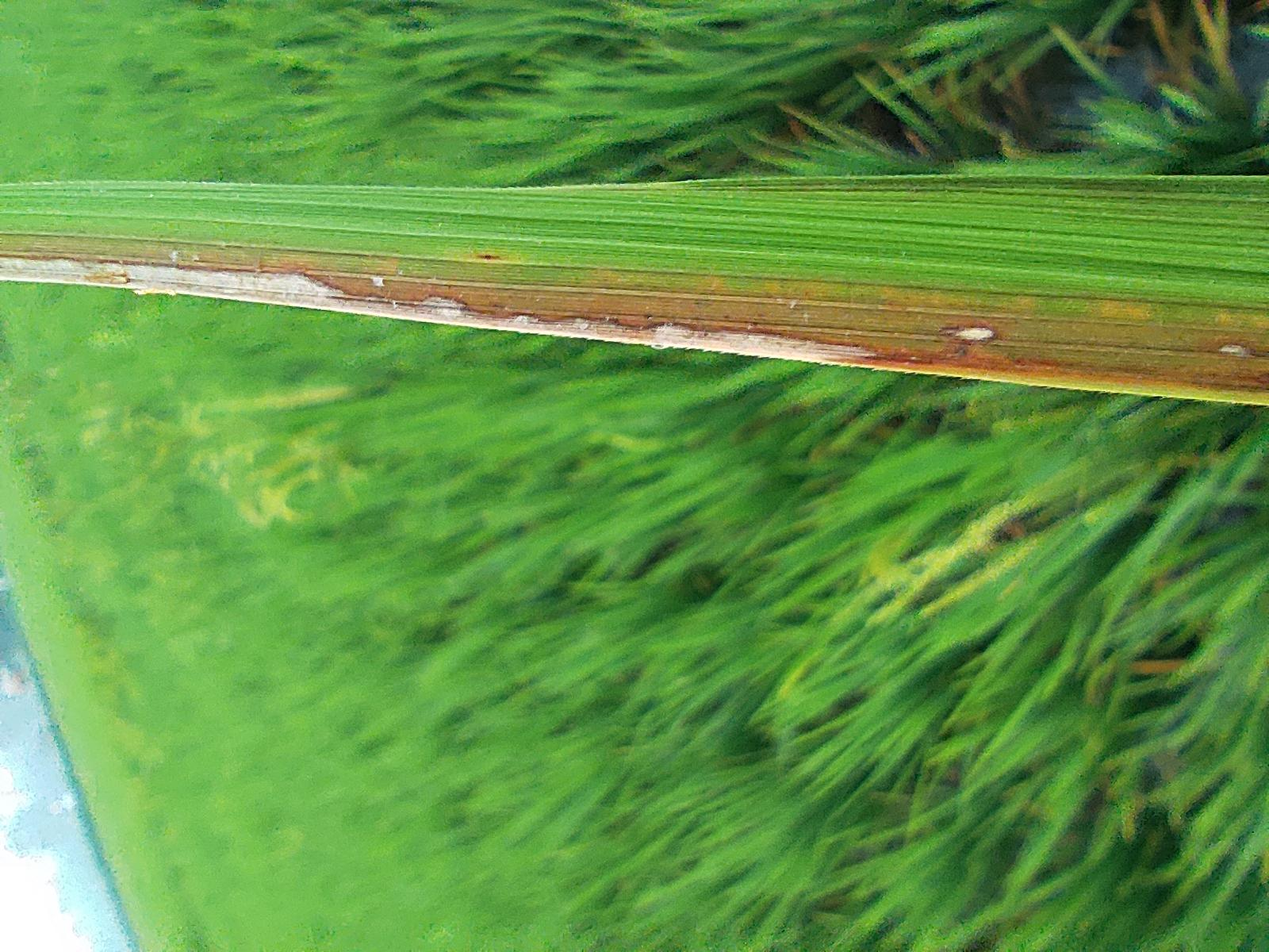BLB: (782, 0, 930, 662)
LEAF: (728, 0, 1036, 951)
